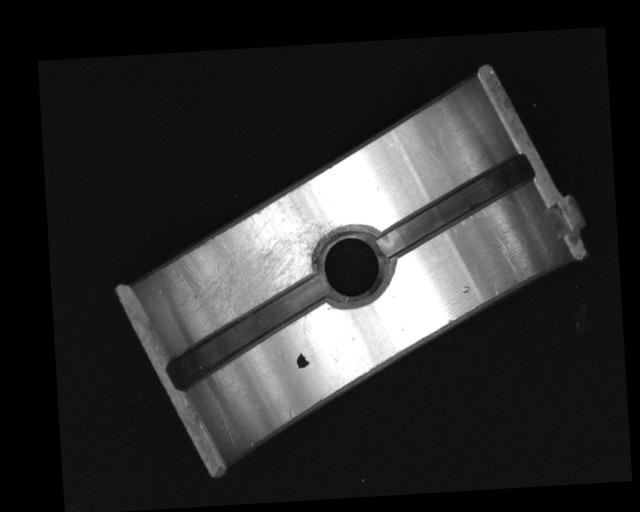blot: (295, 350, 311, 370)
bruise: (460, 283, 471, 294)
gap: (164, 274, 329, 389), (373, 153, 535, 254)
hole: (313, 224, 390, 305)
scratch: (173, 183, 349, 329)
